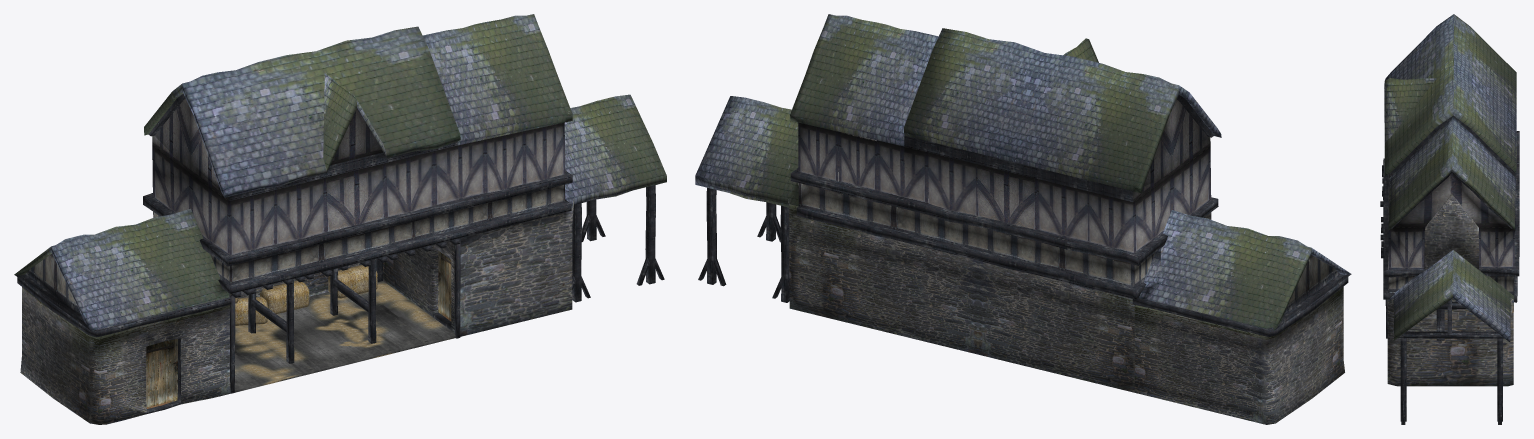
Rendered from stable.fbx.
3 renders of one model, left to right at view 1: azimuth 30°, elevation 25°; view 2: azimuth 150°, elevation 25°; view 3: azimuth 270°, elevation 25°, orthographic. The views are drawn at different scales.
Parts seen in each view (by area): view 1: stable; view 2: stable; view 3: stable.
Part boxes in pixels (left/top/right/bottom): stable: left=14, top=14, right=666, bottom=424; stable: left=695, top=14, right=1351, bottom=424; stable: left=1380, top=14, right=1519, bottom=424.
Bounding box in the file's own units: 1909 × 894 × 483.
